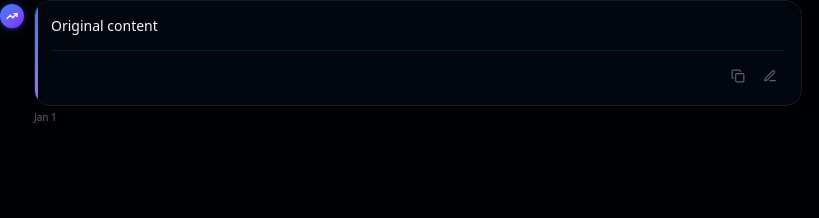
Test: ChatMessage — edit mode › enters edit mode when edit button is clicked
The width and height of the screenshot is (819, 218).
Click the button titled "Edit message": point(770, 76) [755, 61, 785, 91]
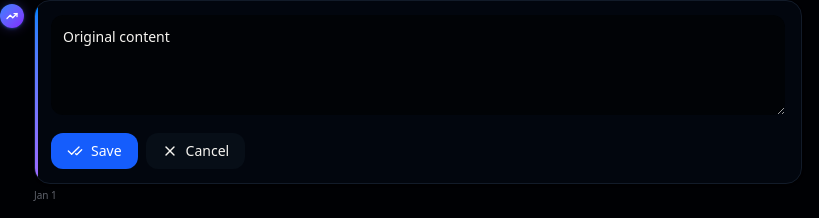
Result: the text box is shown at [51, 15, 785, 115]
